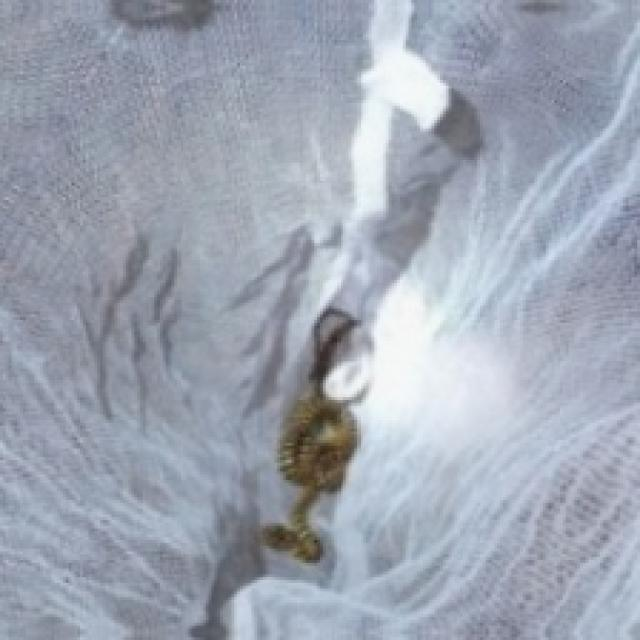mangrove cat snake: (260, 309, 369, 560)
